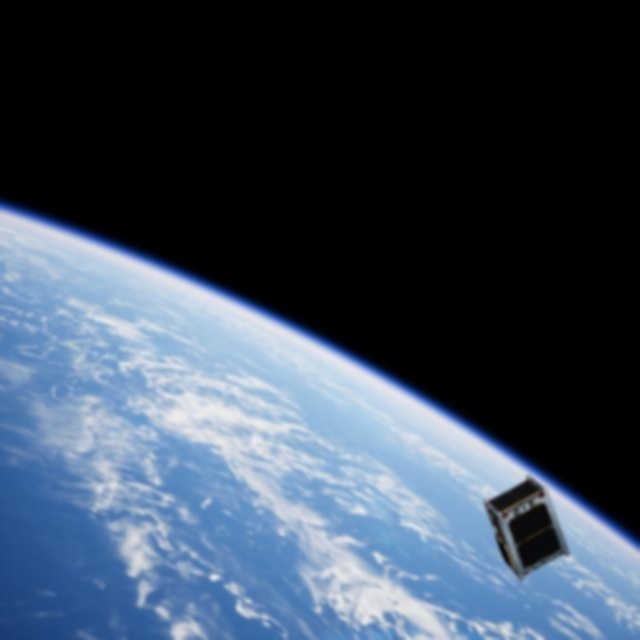satellite: (478, 477, 578, 583)
